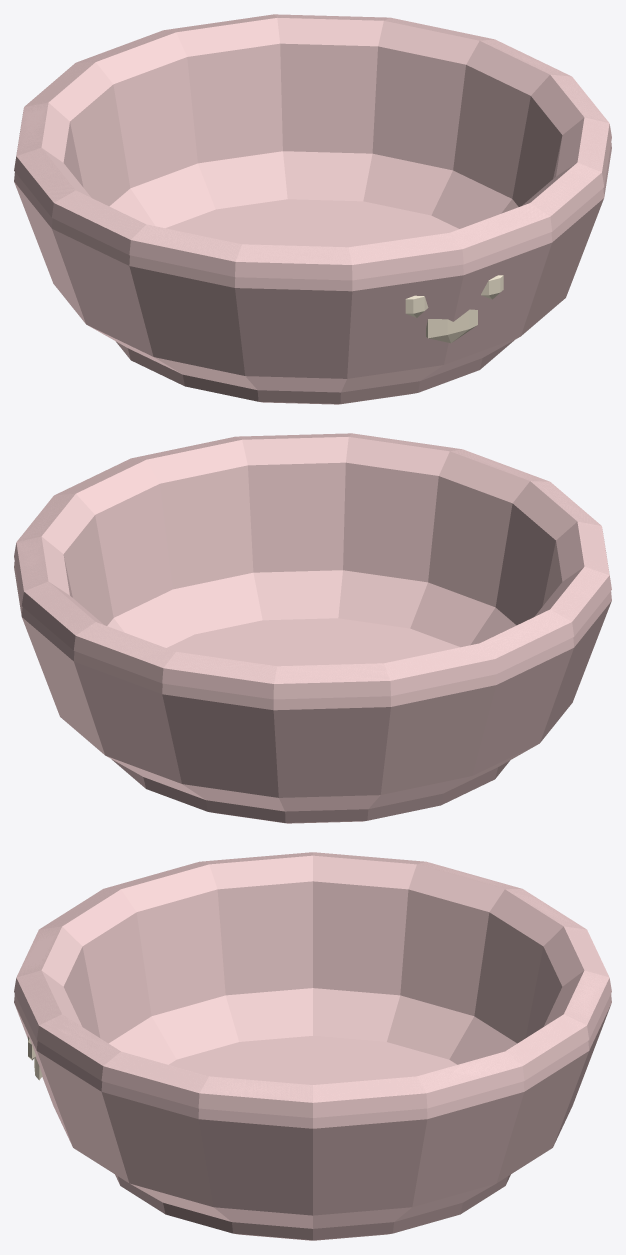
Rendered from crafted-cat-food-0-0.glb.
3 views of the same model, one above another, from view 1: azimuth 30°, elevation 25°; view 2: azimuth 150°, elevation 25°; view 3: azimuth 270°, elevation 25° (orthographic).
Visible parts, largest first — view 1: ceramic-bowl, glazed-rim, foot-ring, paw-pad; view 2: ceramic-bowl, glazed-rim, foot-ring; view 3: ceramic-bowl, glazed-rim, foot-ring.
Boxes of the visible parts, <box> form: ceramic-bowl: <box>14,14,611,392</box>; glazed-rim: <box>14,14,611,280</box>; foot-ring: <box>116,340,514,404</box>; paw-pad: <box>426,309,477,343</box>; ceramic-bowl: <box>14,433,611,811</box>; glazed-rim: <box>14,433,611,699</box>; foot-ring: <box>111,759,509,823</box>; ceramic-bowl: <box>14,852,611,1228</box>; glazed-rim: <box>14,852,611,1117</box>; foot-ring: <box>115,1174,510,1240</box>.
Bounding box in the file's own units: 0.76 × 0.265 × 0.76.
